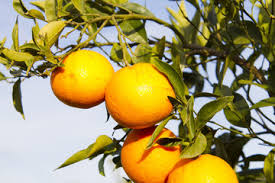orange: (103, 60, 182, 126), (49, 45, 116, 112), (118, 126, 182, 183), (166, 149, 244, 183)
